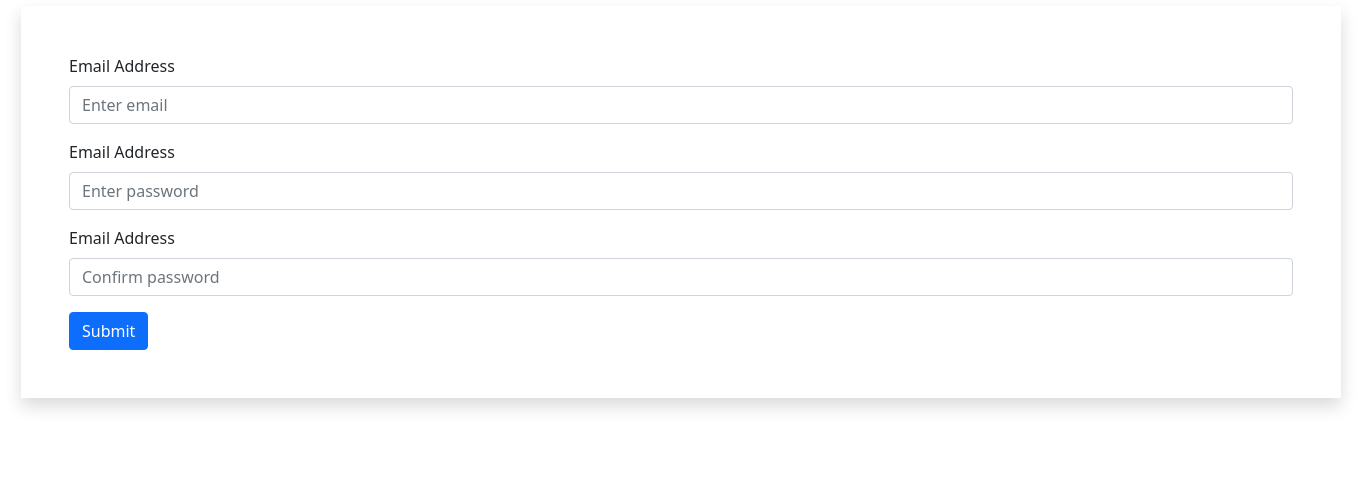
Test case: testing app component › should show confirm password error message if password does not match
Type "1234" into the password field with test id "form-input-password".
click(681, 191); type("1234")  # box [69, 172, 1293, 210]
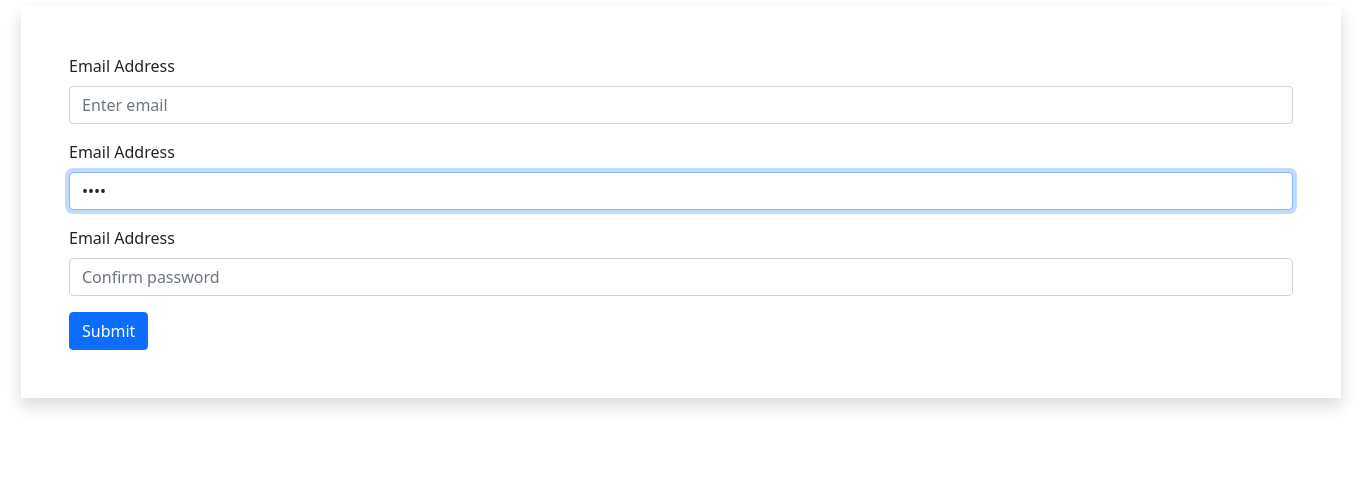
Type "1232" into the password field with test id "form-input-confirm-password".
click(681, 277); type("1232")  # box [69, 258, 1293, 296]
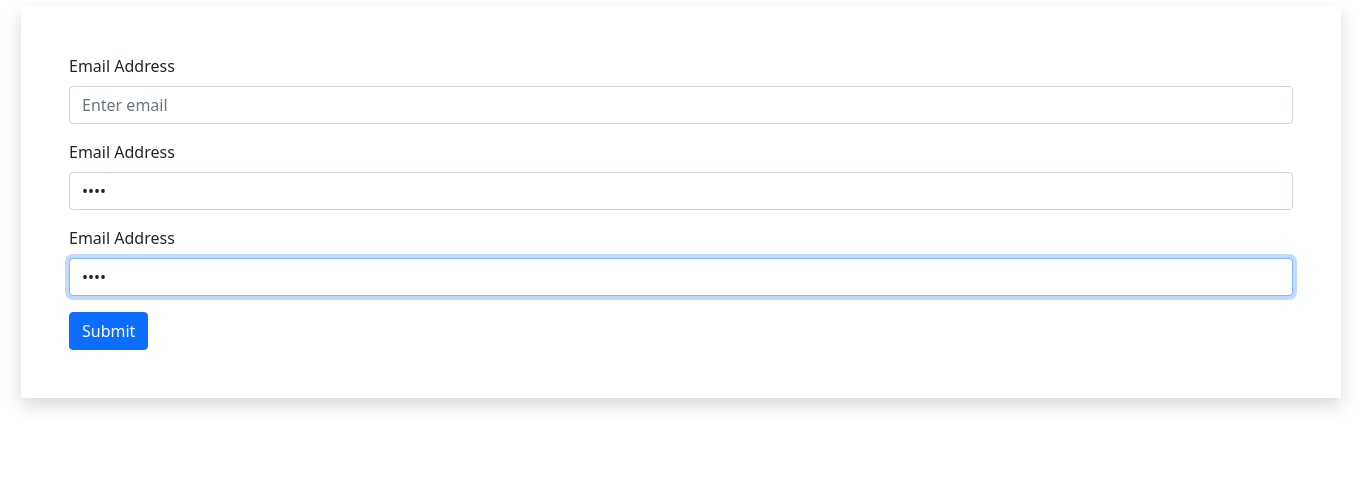
Click the button with test id "form-submit-btn".
click(109, 331)  # box [69, 312, 148, 350]
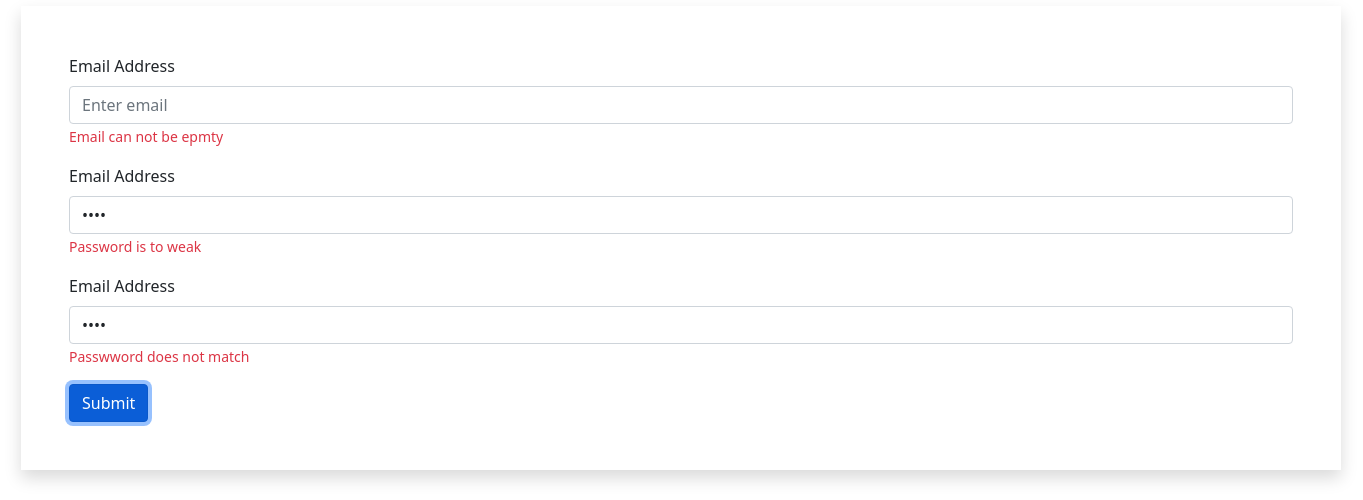
Now the text "Passwword does not match" is shown, box [69, 347, 250, 366]
